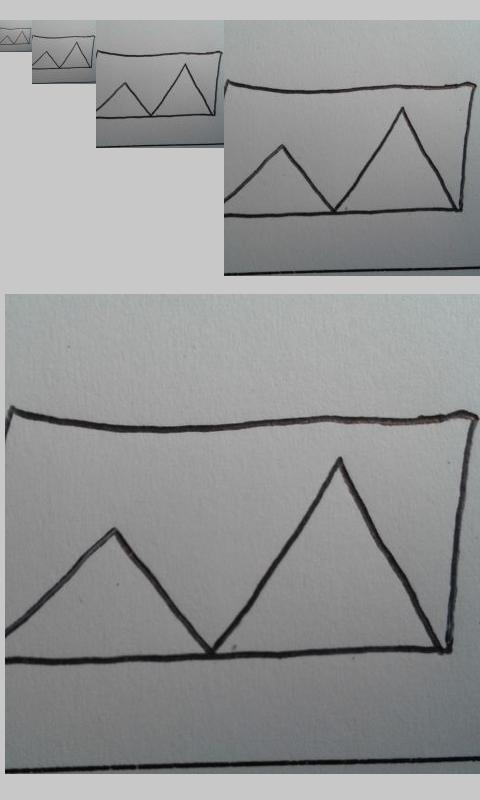image_view: (3, 405, 479, 665), (225, 79, 474, 216), (96, 48, 224, 120), (31, 34, 95, 70), (1, 27, 31, 46)
